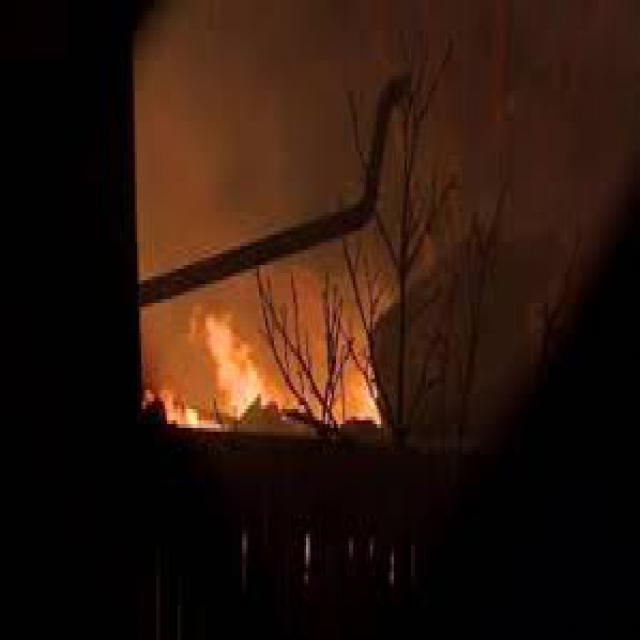fire: (176, 307, 261, 424)
